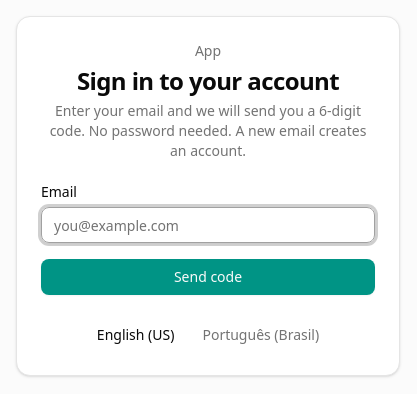
Test: LoginPage › changes the language from the login page
What coordinates should you click on to do the following:
click the button "Português (Brasil)"
I would click on:
 (261, 335)
Its box is [190,319,331,351].
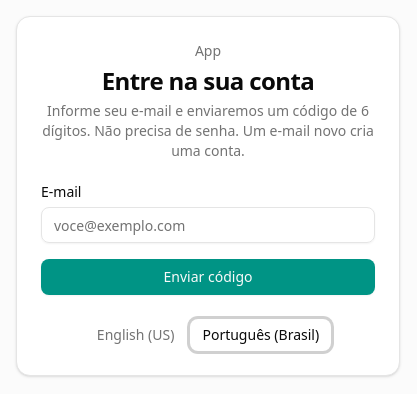
expect the heading "Entre na sua conta" is shown: met, box [102,64,314,97]
